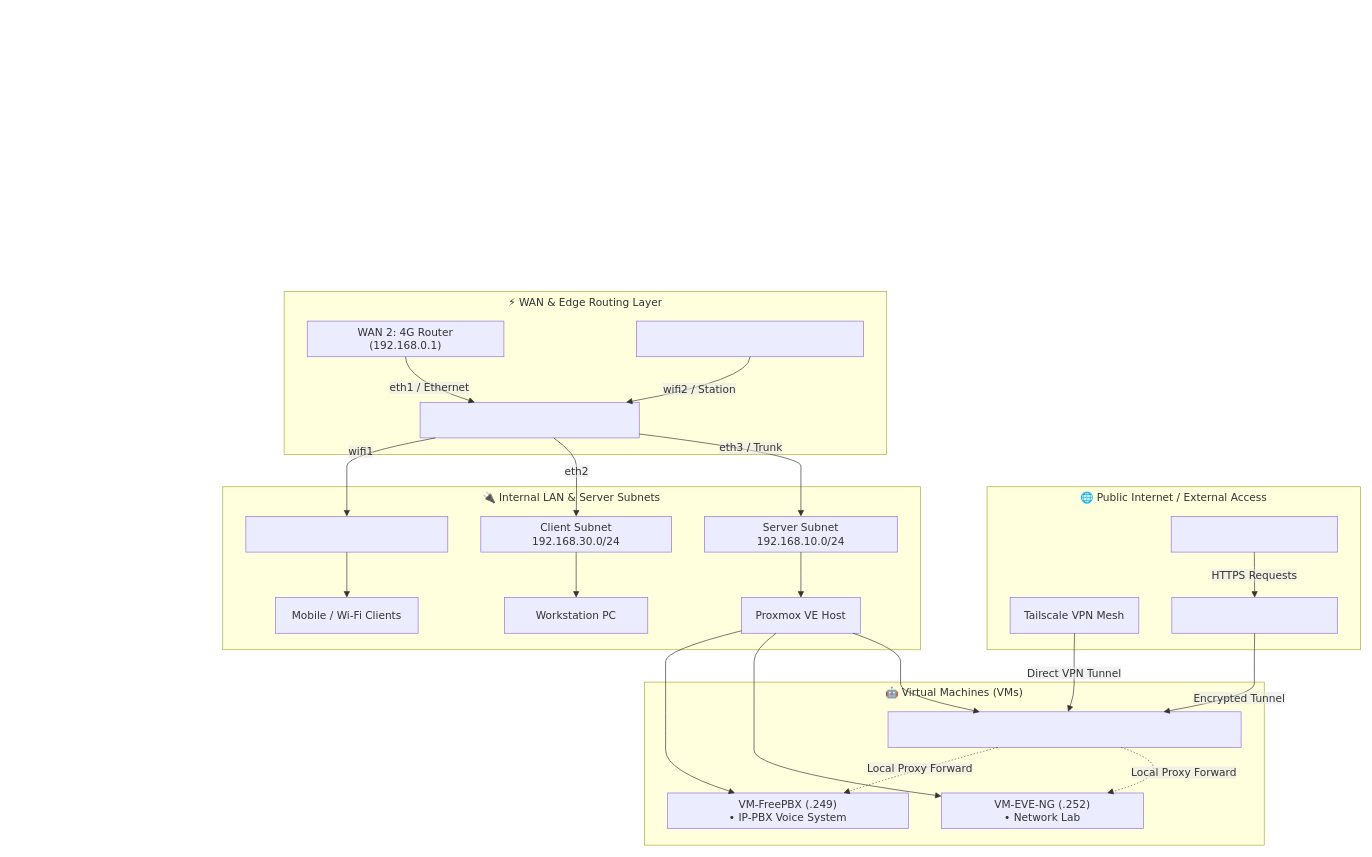
Image size: 1372x857. Some labels were removed from this diagram. Here are the shapes that lost their labels. From the top down, the centre of each, then its label:
the point at 750,338: WAN 1: Apartment Wi-Fi (192.168.1.1)
the point at 529,420: MikroTik hAP ac2 (Core Edge Router)
the point at 346,534: Wireless Subnet 192.168.20.0/24
the point at 1254,534: https://*.labanurak.online
the point at 1254,615: Cloudflare Zero Trust Edge
the point at 1064,729: VM-Ubuntu (.251) • cloudflared Agent • Tailscale Subnet Router
